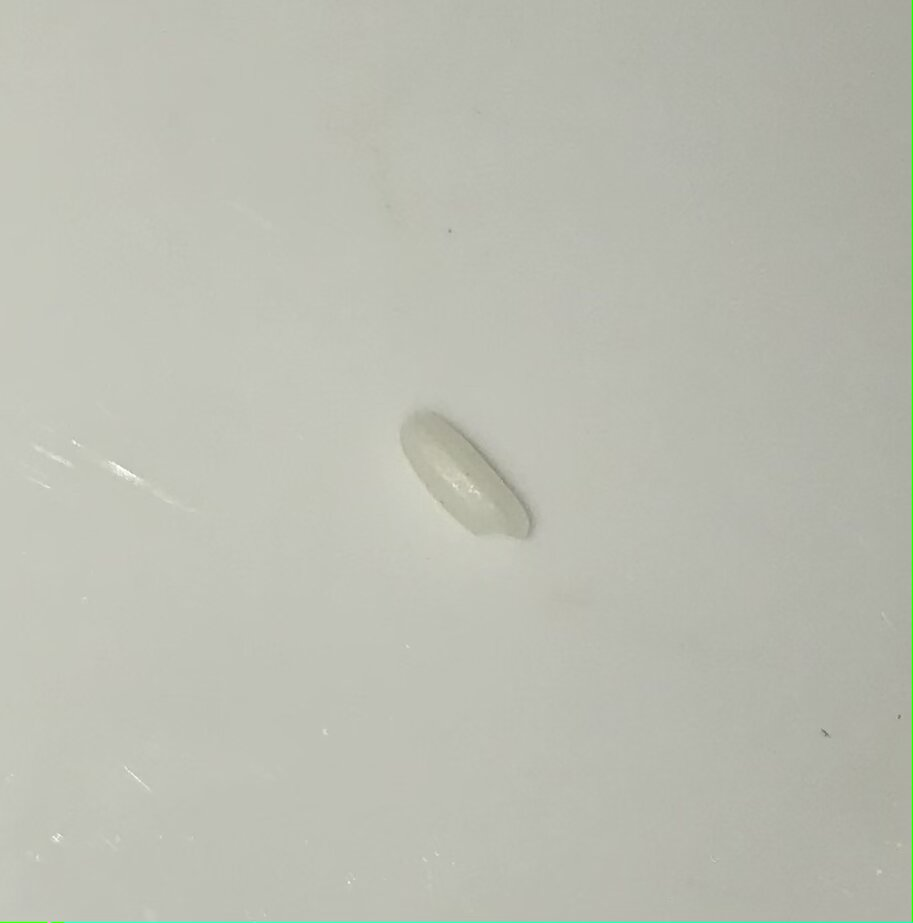Gao Lai Sua: (391, 400, 536, 543)
